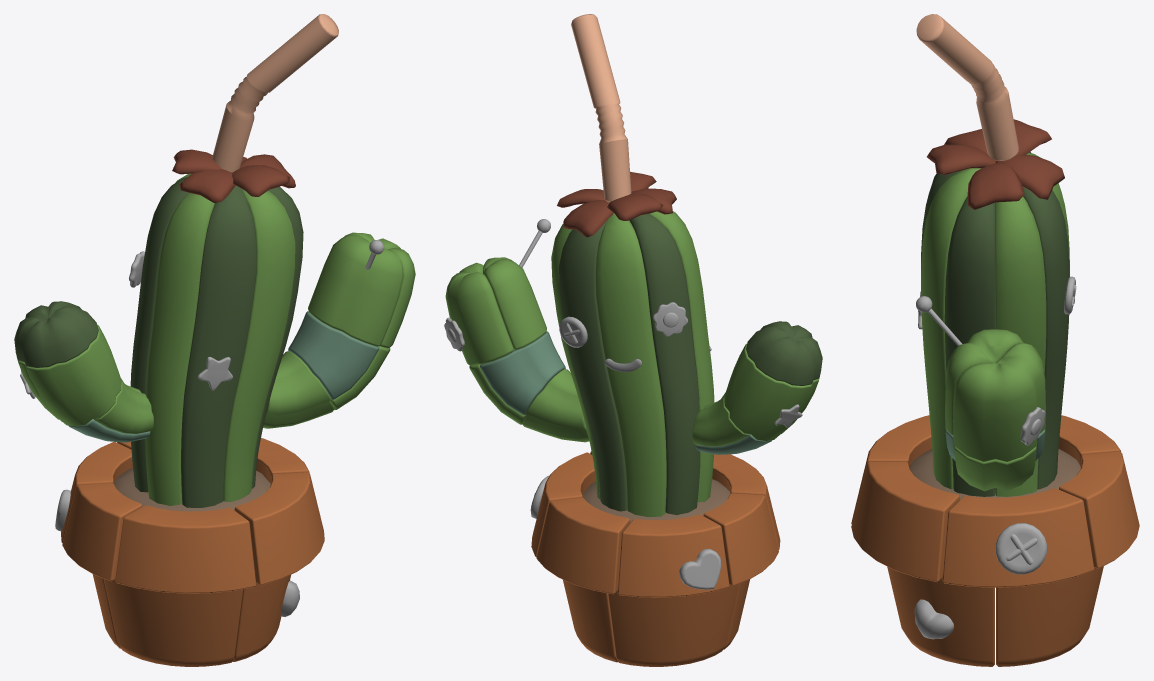
Rendered from Cactus_fix.fbx.
The picture shows the model from 3 angles, left to right: view 1: azimuth 30°, elevation 25°; view 2: azimuth 150°, elevation 25°; view 3: azimuth 270°, elevation 25°; orthographic projection. The views are drawn at different scales.
Visible parts, largest first — view 1: M_Cactus10, M_Cactus12, S_Cactus, M_Cactus21, M_Cactus8, M_Cactus30, M_Cactus15, M_Cactus22, M_Cactus5, M_Cactus20, M_Cactus13, M_Cactus1 (+12 smaller); view 2: M_Cactus11, S_Cactus, M_Cactus13, M_Cactus9, M_Cactus26, M_Cactus19, M_Cactus24, M_Cactus16, M_Cactus20, M_Cactus2, M_Cactus12, M_Cactus1 (+14 smaller); view 3: S_Cactus, M_Cactus23, M_Cactus22, M_Cactus16, M_Cactus31, M_Cactus6, M_Cactus8, M_Cactus7, M_Cactus32, M_Cactus9, M_Cactus24, M_Cactus15 (+8 smaller).
Part boxes in pixels (x1=…): M_Cactus10: x1=181, y1=185, x2=256, y2=507; M_Cactus12: x1=145, y1=193, x2=215, y2=505; S_Cactus: x1=113, y1=14, x2=338, y2=511; M_Cactus21: x1=115, y1=505, x2=256, y2=593; M_Cactus8: x1=223, y1=189, x2=295, y2=501; M_Cactus30: x1=104, y1=579, x2=243, y2=666; M_Cactus15: x1=308, y1=235, x2=403, y2=346; M_Cactus22: x1=234, y1=472, x2=324, y2=585; M_Cactus5: x1=25, y1=325, x2=121, y2=426; M_Cactus20: x1=62, y1=483, x2=142, y2=581; M_Cactus13: x1=130, y1=177, x2=189, y2=492; M_Cactus1: x1=14, y1=301, x2=98, y2=367; M_Cactus11: x1=595, y1=213, x2=666, y2=516; S_Cactus: x1=557, y1=14, x2=730, y2=522; M_Cactus13: x1=629, y1=213, x2=700, y2=514; M_Cactus9: x1=559, y1=221, x2=627, y2=511; M_Cactus26: x1=608, y1=584, x2=738, y2=666; M_Cactus19: x1=617, y1=514, x2=729, y2=597; M_Cactus24: x1=536, y1=497, x2=630, y2=594; M_Cactus16: x1=445, y1=262, x2=513, y2=366; M_Cactus20: x1=703, y1=493, x2=778, y2=585; M_Cactus2: x1=724, y1=343, x2=812, y2=441; M_Cactus12: x1=650, y1=211, x2=714, y2=502; M_Cactus1: x1=746, y1=321, x2=822, y2=385; S_Cactus: x1=909, y1=14, x2=1080, y2=499; M_Cactus23: x1=942, y1=488, x2=1094, y2=587; M_Cactus22: x1=851, y1=462, x2=959, y2=581; M_Cactus16: x1=953, y1=343, x2=1045, y2=461; M_Cactus31: x1=996, y1=566, x2=1103, y2=666; M_Cactus6: x1=995, y1=196, x2=1046, y2=496; M_Cactus8: x1=921, y1=168, x2=980, y2=489; M_Cactus7: x1=944, y1=196, x2=995, y2=496; M_Cactus32: x1=887, y1=566, x2=994, y2=666; M_Cactus9: x1=1022, y1=186, x2=1069, y2=489; M_Cactus24: x1=1059, y1=451, x2=1139, y2=568; M_Cactus15: x1=945, y1=329, x2=1023, y2=435.
Bounding box in the file's own units: 407 × 616 × 240.
